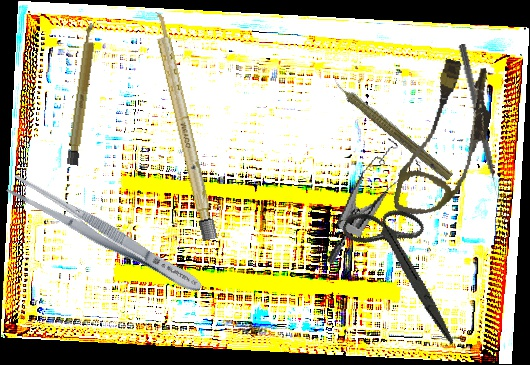Cannula: (391, 53, 502, 227)
Dressing Forceps: (4, 171, 207, 300)
Handpiece: (324, 70, 458, 184)
Iris Scissors: (317, 189, 495, 346)
Pusher: (456, 43, 502, 200)
Scalpel Handle: (150, 9, 218, 242), (66, 22, 99, 166)
Speculum: (325, 130, 427, 282)
